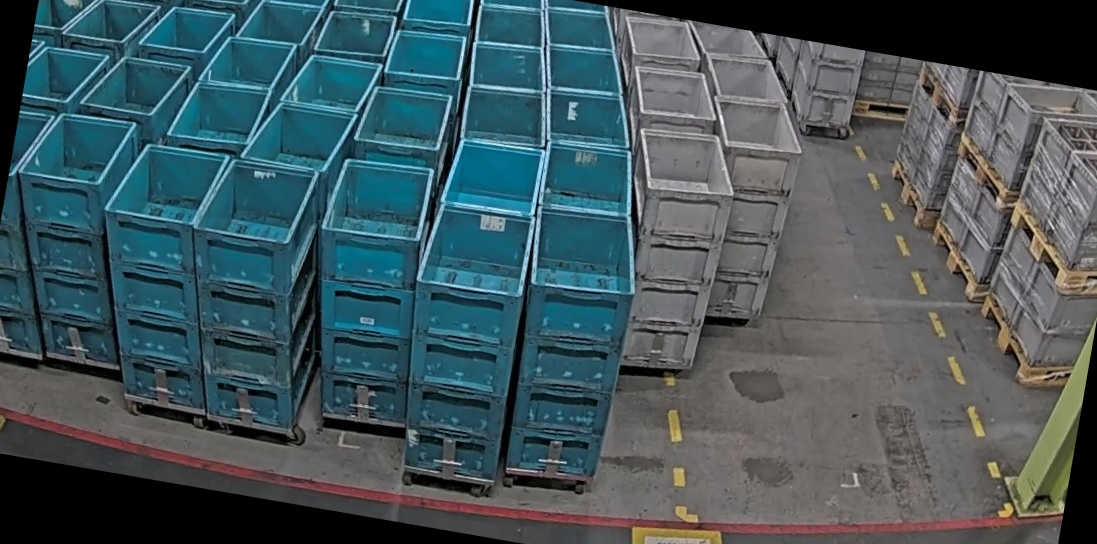4G: (599, 121, 743, 380), (676, 88, 812, 327)
B4: (161, 151, 348, 431), (74, 135, 250, 410), (288, 151, 449, 430), (491, 200, 648, 486), (384, 198, 541, 482), (0, 102, 161, 368)
